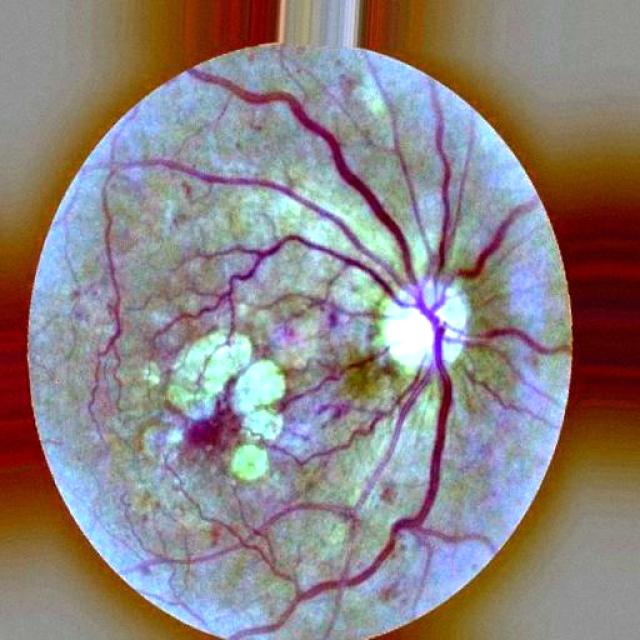Macula: (179, 397, 245, 454)
Nerves: (88, 79, 423, 414), (239, 310, 452, 639), (155, 360, 435, 572)
Optic Disk: (380, 274, 474, 374)
